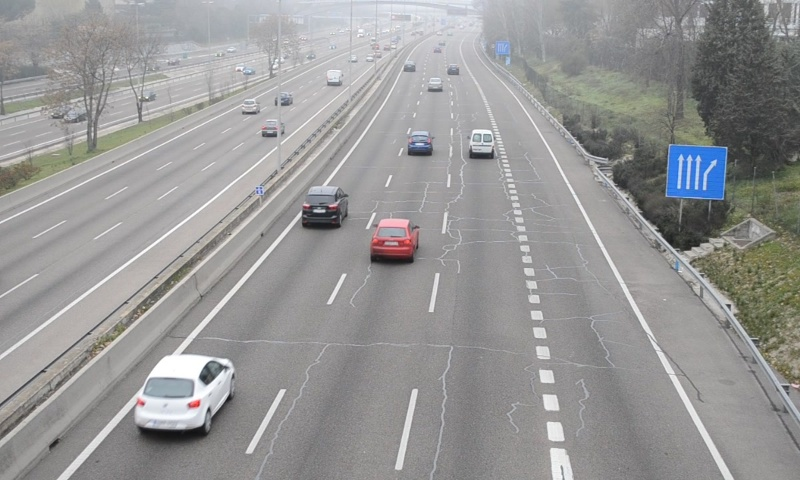car: (133, 355, 234, 428), (369, 219, 417, 259), (302, 186, 346, 226), (407, 132, 432, 155), (427, 77, 444, 92)
van: (469, 129, 494, 158)
